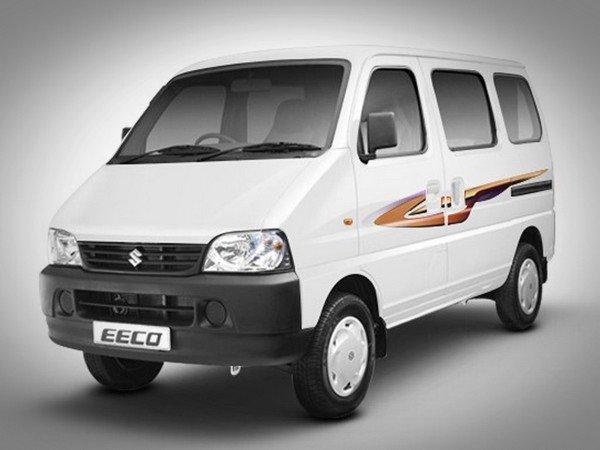van: (39, 42, 553, 421)
